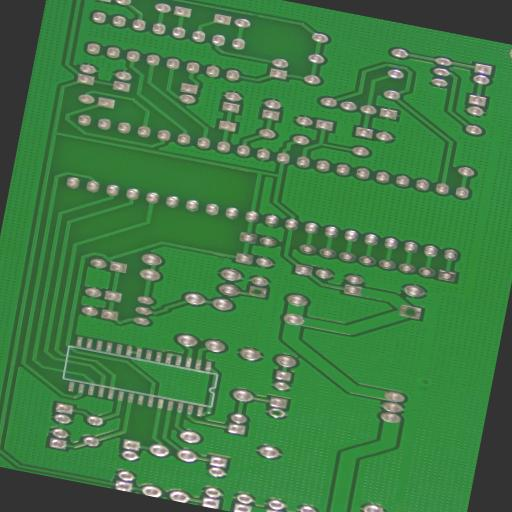missing_hole: (249, 286, 264, 298), (402, 306, 417, 317), (268, 408, 282, 418)
